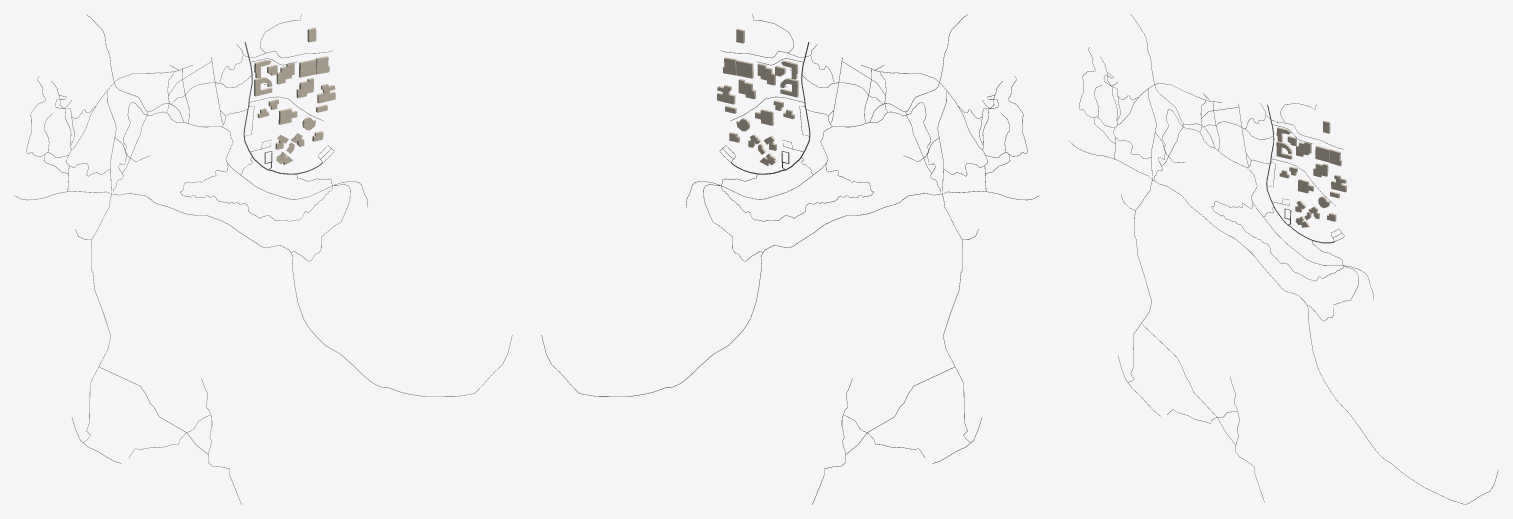
Rendered from historic-palestine-11_34_3525_3285.glb.
3 renders of one model, left to right at view 1: azimuth 30°, elevation 25°; view 2: azimuth 150°, elevation 25°; view 3: azimuth 330°, elevation 25°, orthographic. The views are drawn at different scales.
Parts seen in each view (by area): view 1: Road .032; view 2: Road .032; view 3: no part large enough to name.
Boxes of the visible parts, x1=… form: Road .032: x1=112, y1=193, x2=512, y2=396; Road .032: x1=541, y1=193, x2=941, y2=396.
Size of the model in its own units: 1522 by 1543 by 8.7.
